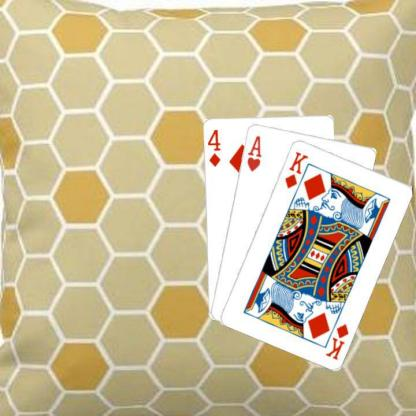4D: (205, 127, 221, 168)
AH: (244, 132, 263, 173)
KD: (282, 148, 309, 190), (323, 321, 350, 361)
